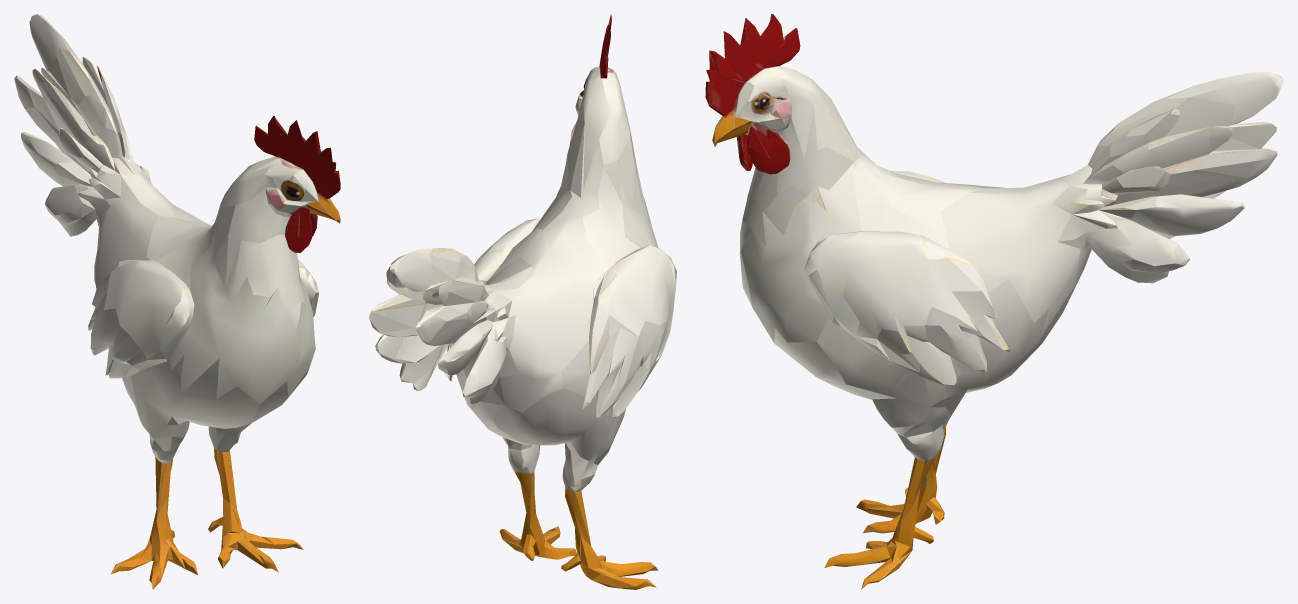
Rendered from chicken.glb.
3 views of the same model, side by side, from view 1: azimuth 30°, elevation 25°; view 2: azimuth 150°, elevation 25°; view 3: azimuth 270°, elevation 25° (orthographic). The views are drawn at different scales.
Bounding box in the file's own units: 0.7701 × 1.9 × 1.84.
1 material, 1 textured.
